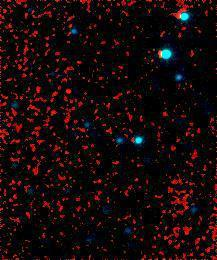star: (54, 76, 84, 106)
